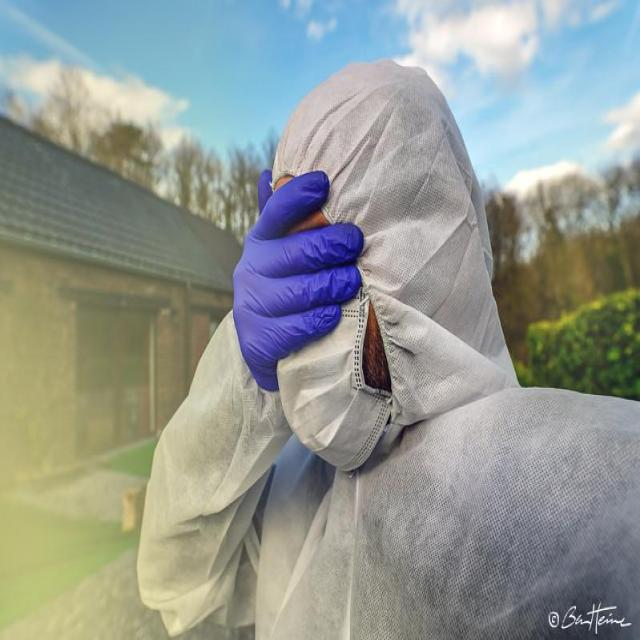Gloves: (230, 166, 366, 391)
Mask: (275, 305, 391, 474)
